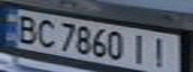0: (106, 28, 130, 62)
6: (90, 26, 109, 60)
7: (54, 20, 78, 53)
8: (72, 24, 93, 56)
B: (9, 11, 42, 44)
C: (30, 16, 57, 48)
I: (145, 34, 178, 69), (127, 32, 154, 65)
